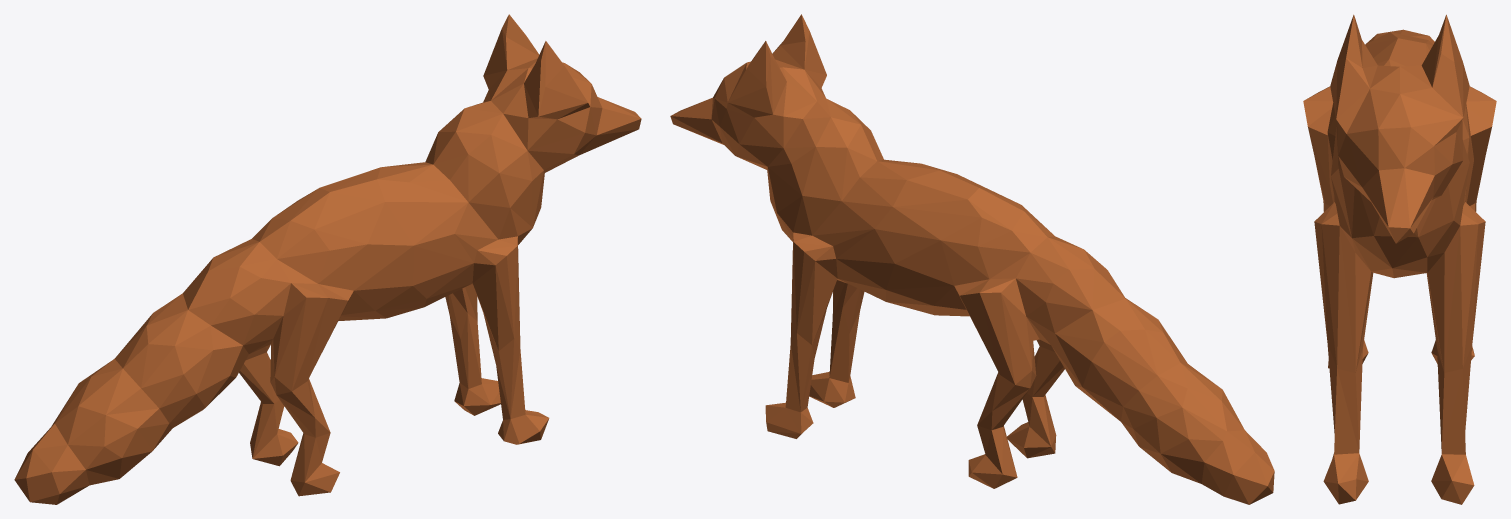
Rendered from NEW_RECOVERY_041_LOD2.glb.
3 renders of one model, left to right at view 1: azimuth 30°, elevation 25°; view 2: azimuth 150°, elevation 25°; view 3: azimuth 270°, elevation 25°, orthographic. The views are drawn at different scales.
Parts seen in each view (by area): view 1: Fox_LOD2; view 2: Fox_LOD2; view 3: Fox_LOD2.
Part boxes in pixels (x1,y1,x2,y2): Fox_LOD2: [14, 14, 641, 504]; Fox_LOD2: [670, 14, 1274, 504]; Fox_LOD2: [1303, 14, 1496, 504].
Bounding box in the file's own units: 3.4 × 2.09 × 0.7316.
